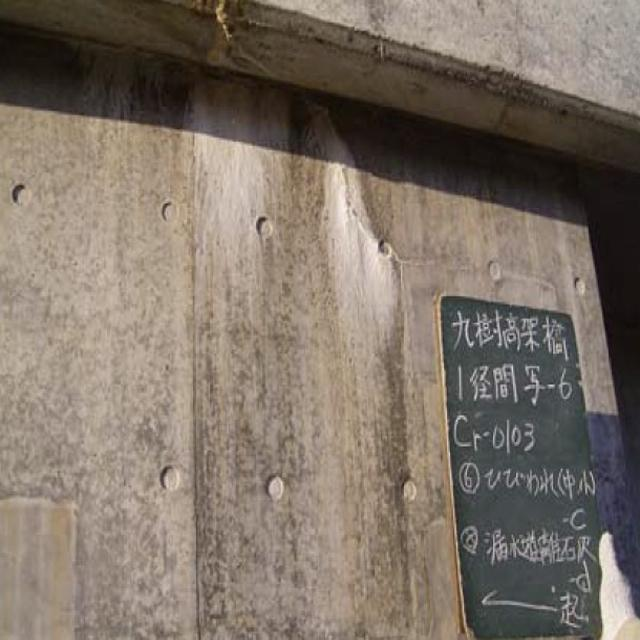freelime: (188, 76, 308, 283), (320, 120, 406, 363)
